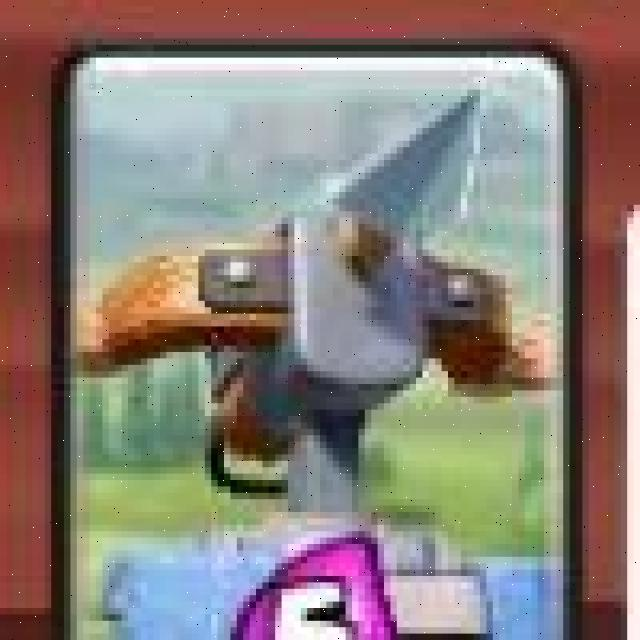X_Bow: (56, 48, 577, 640)
